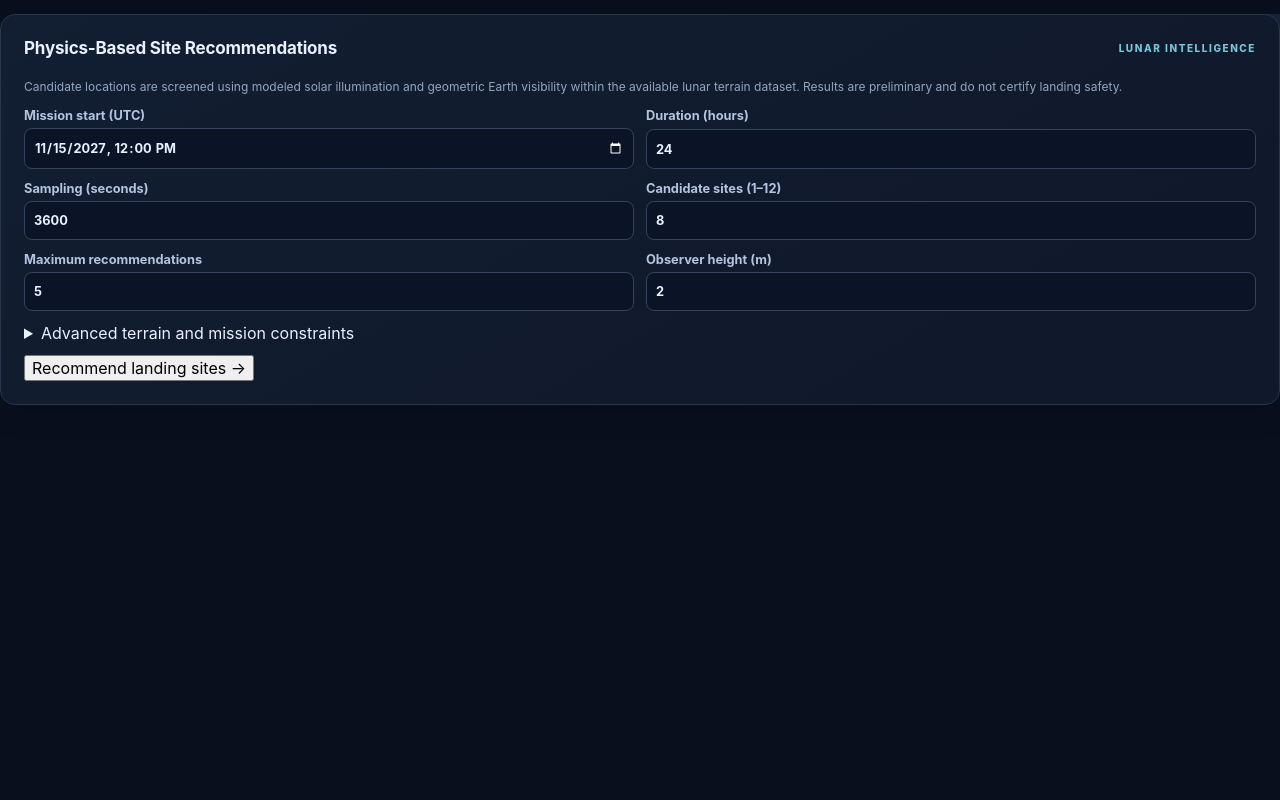
it: physics-based site recommendation UI › serializes backend defaults without a separate ranking algorithm
Click the button "Recommend landing sites →" at [139, 368], box [24,355,254,381]
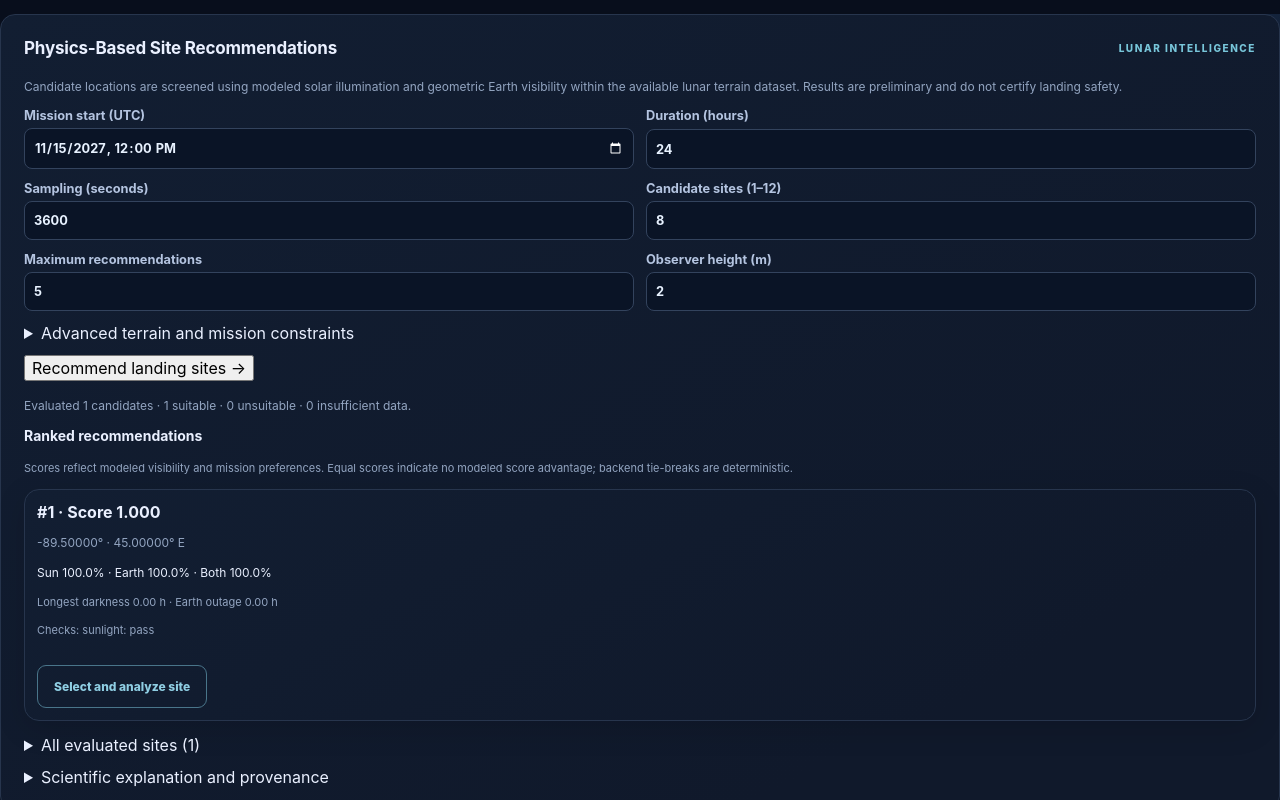
Now the text "#1 · Score 1.000" is shown, box [37,502,160,522]
